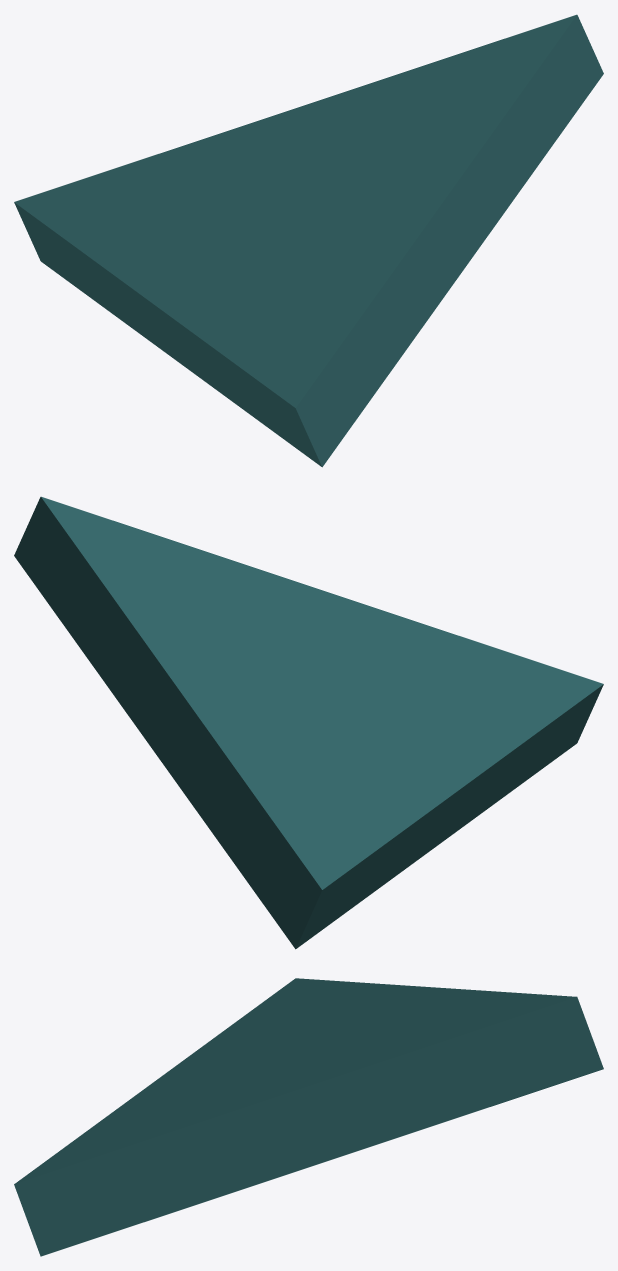
Rendered from button5.glb.
The picture shows the model from 3 angles, top to bottom: view 1: azimuth 30°, elevation 25°; view 2: azimuth 150°, elevation 25°; view 3: azimuth 330°, elevation 25°; orthographic projection.
Visible parts, largest first — view 1: Cone.006; view 2: Cone.006; view 3: Cone.006.
Boxes of the visible parts, bbox=[...] form: Cone.006: bbox=[14, 14, 603, 467]; Cone.006: bbox=[14, 496, 603, 949]; Cone.006: bbox=[14, 978, 603, 1256].
Bounding box in the file's own units: 0.8638 × 0.4657 × 0.9382.
